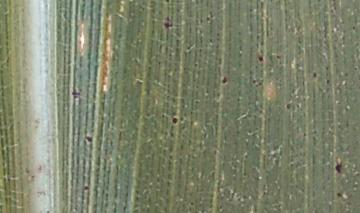tarspot: (162, 14, 175, 31), (333, 158, 343, 173), (84, 134, 94, 144), (70, 90, 81, 99), (257, 54, 265, 64), (221, 75, 228, 85), (335, 190, 343, 198), (82, 184, 90, 192), (217, 203, 224, 212), (312, 70, 318, 80), (274, 53, 282, 60), (171, 116, 177, 125), (251, 78, 258, 85), (352, 65, 359, 72), (285, 102, 291, 110), (205, 15, 211, 23), (257, 80, 263, 87), (325, 78, 331, 85), (192, 62, 199, 68), (188, 200, 194, 206), (164, 1, 171, 4)
